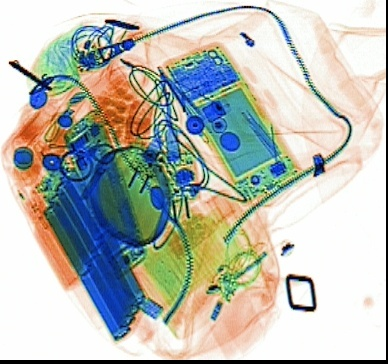powerbank: (30, 161, 148, 344)
